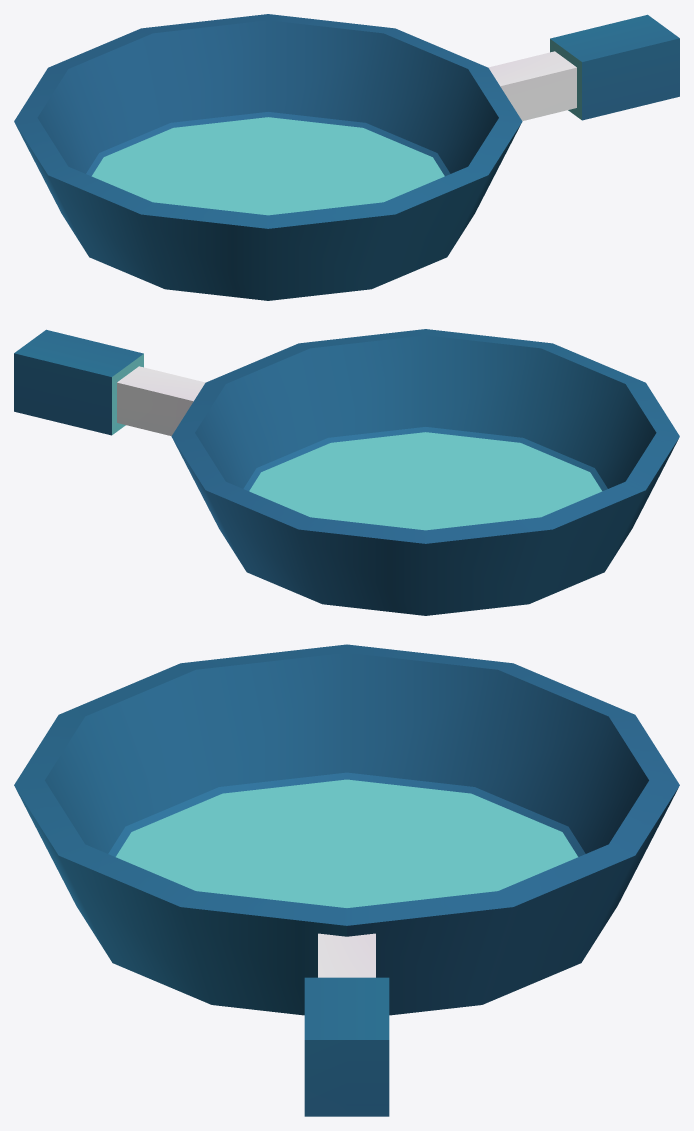
The model's file is Pan.fbx.
The picture shows the model from 3 angles, top to bottom: view 1: azimuth 30°, elevation 25°; view 2: azimuth 150°, elevation 25°; view 3: azimuth 270°, elevation 25°; orthographic projection. The views are drawn at different scales.
Parts seen in each view (by area): view 1: Chao; view 2: Chao; view 3: Chao.
Part boxes in pixels (<box>): Chao: <box>14,14,679,300</box>; Chao: <box>14,329,679,615</box>; Chao: <box>14,644,679,1116</box>.
Size of the model in its own units: 246 by 36.61 by 176.
